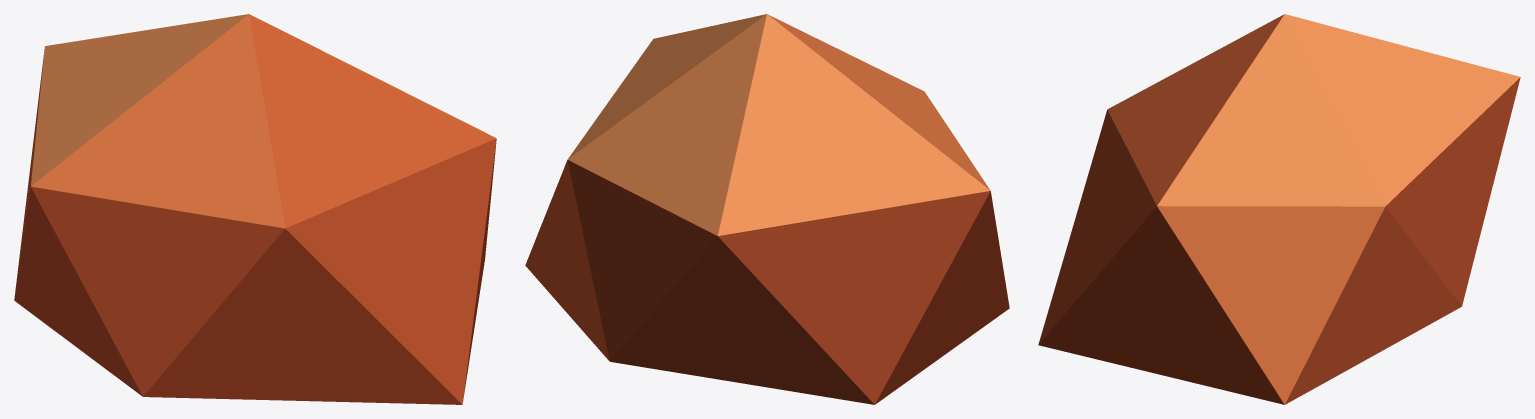
Rendered from SM_ROCK_S_02.fbx.
The picture shows the model from 3 angles, left to right: view 1: azimuth 30°, elevation 25°; view 2: azimuth 150°, elevation 25°; view 3: azimuth 270°, elevation 25°; orthographic projection. The views are drawn at different scales.
Parts seen in each view (by area): view 1: ROCK_S_02; view 2: ROCK_S_02; view 3: ROCK_S_02.
Part boxes in pixels (left/top/right/bottom): ROCK_S_02: left=14, top=14, right=496, bottom=404; ROCK_S_02: left=525, top=14, right=1009, bottom=404; ROCK_S_02: left=1038, top=14, right=1520, bottom=404.
Bounding box in the file's own units: 0.9486 × 0.933 × 0.6961.
